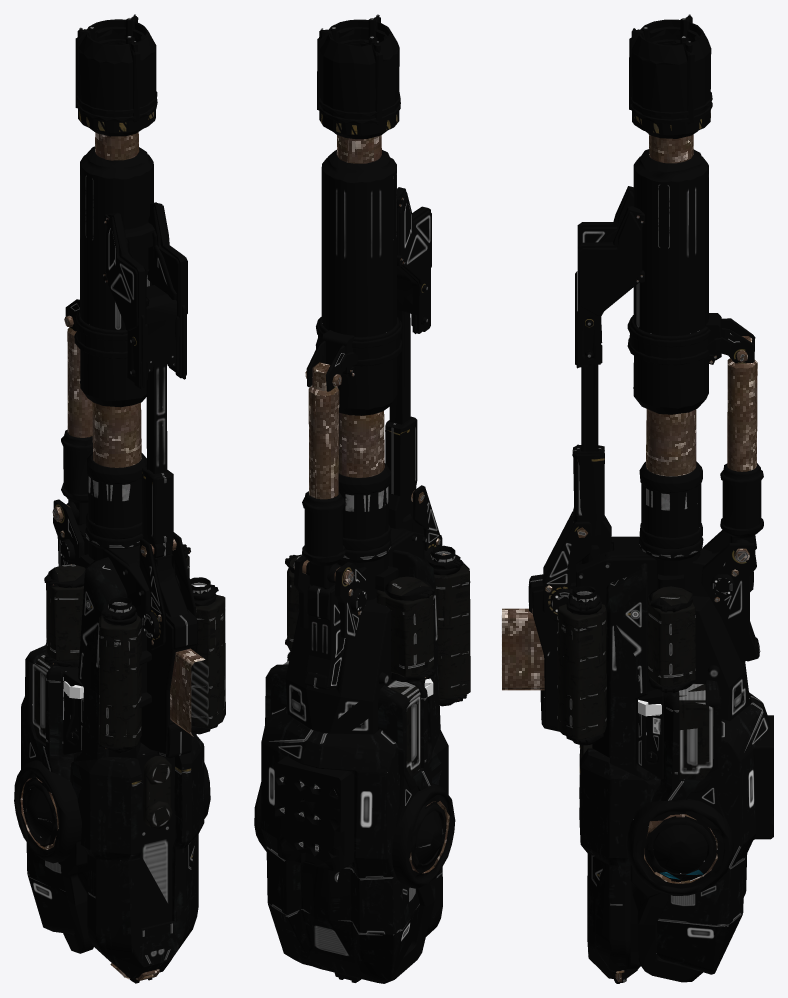
The model's file is pyroburst-scattergun.glb.
The picture shows the model from 3 angles, left to right: view 1: azimuth 30°, elevation 25°; view 2: azimuth 150°, elevation 25°; view 3: azimuth 270°, elevation 25°; orthographic projection. The views are drawn at different scales.
Parts seen in each view (by area): view 1: body; view 2: body; view 3: body.
Boxes of the visible parts, bbox=[...] form: body: bbox=[14, 14, 225, 983]; body: bbox=[254, 14, 470, 983]; body: bbox=[501, 14, 773, 983].
Size of the model in its own units: 0.6644 by 3.66 by 0.9579.
12 materials, 10 textured.
